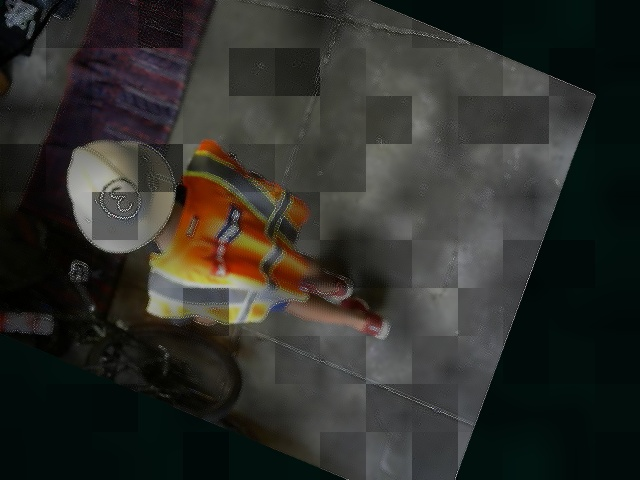three: (95, 172, 146, 224)
